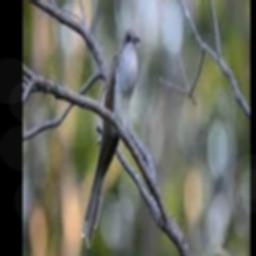Cuckoo: (81, 26, 140, 247)
